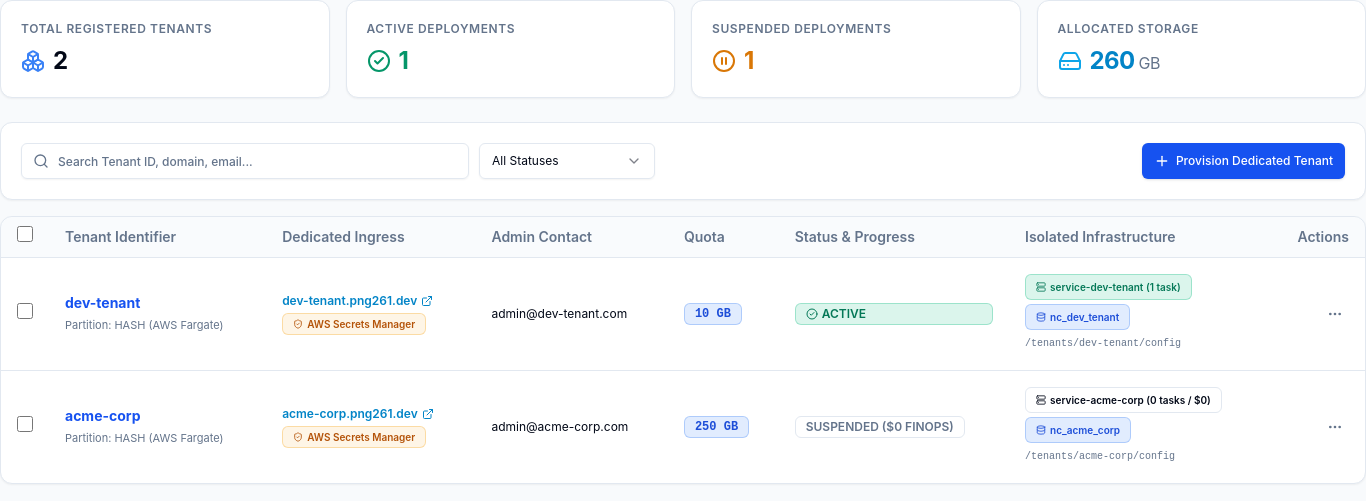
Test case: TenantListPage — SuperAdmin Fleet Management › filters tenants when searching in search input
In the field with placeholder "Search Tenant ID, domain, email...": coordinates (245, 161) [21, 143, 469, 179], type "acme"
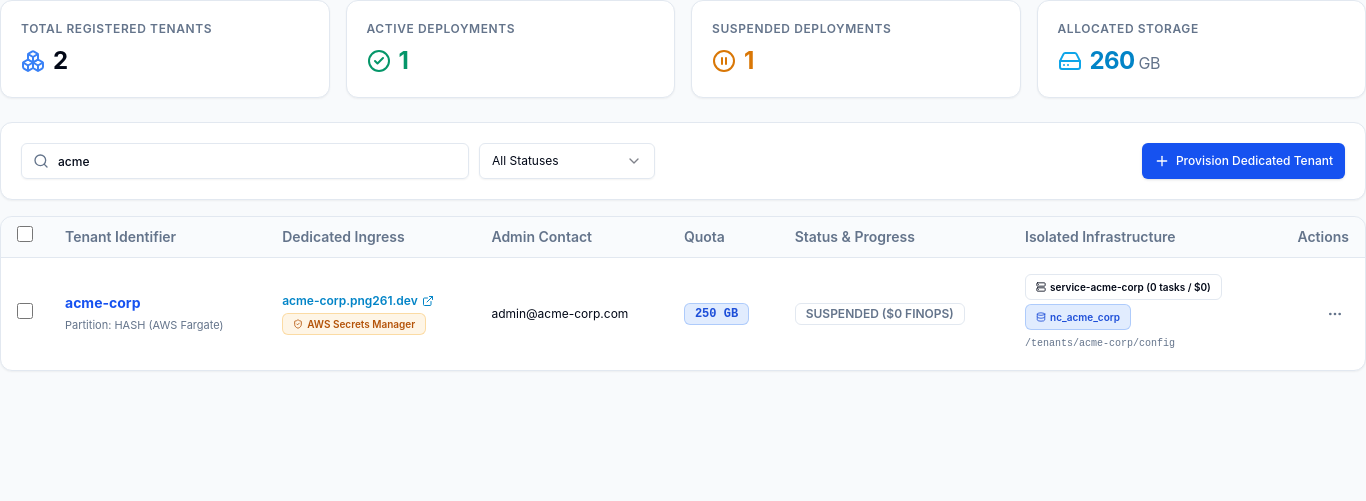
Check: the button "acme-corp" is shown, box [65, 292, 140, 312]
Check: the button "dev-tenant" is gone
